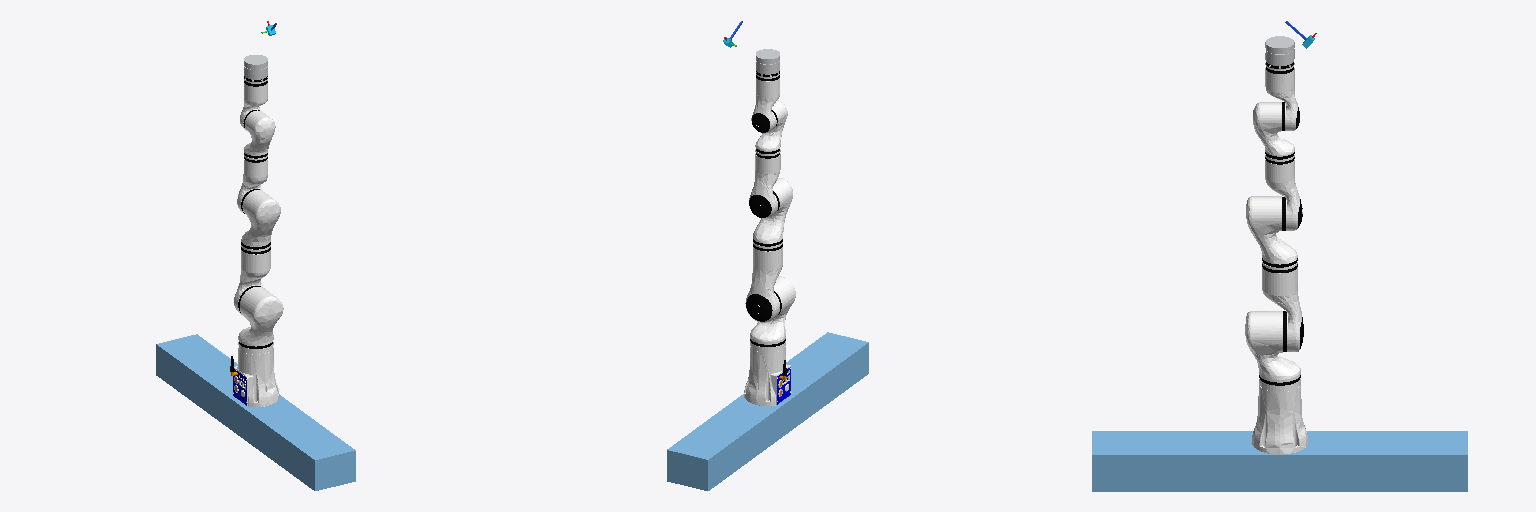
robot.urdf — RM75-6F-8dof-genesis:
<?xml version="1.0" encoding="utf-8"?>
<!-- Genesis viewer URDF: 74 cm rail visual + RM75 arm Collada meshes.
     Joint origins MUST match RM75-6F-8dof.urdf (verified FK @ joint_admittance).
     No extra visual offsets on arm links — meshes only at origin 0 0 0. -->
<robot name="RM75-6F-8dof-genesis">
  <link name="rail_base">
    <inertial>
      <origin xyz="0 0 0" rpy="0 0 0" />
      <mass value="5.0" />
      <inertia ixx="0.05" ixy="0" ixz="0" iyy="0.05" iyz="0" izz="0.05" />
    </inertial>
  </link>

  <link name="rail_visual">
    <visual>
      <origin xyz="0 0 -0.04" rpy="0 0 0" />
      <geometry>
        <box size="0.11 0.74 0.08" />
      </geometry>
      <material name="rail_light_blue">
        <color rgba="0.55 0.78 0.95 1.0" />
      </material>
    </visual>
  </link>
  <joint name="rail_visual_mount" type="fixed">
    <origin xyz="0 0 0" rpy="0 0 0" />
    <parent link="rail_base" />
    <child link="rail_visual" />
  </joint>
  <link name="slider_link">
    <inertial>
      <origin xyz="0 0 0" rpy="0 0 0" />
      <mass value="2.0" />
      <inertia ixx="0.01" ixy="0" ixz="0" iyy="0.01" iyz="0" izz="0.01" />
    </inertial>
  </link>
  <joint name="rail_y" type="prismatic">
    <origin xyz="0 0 0" rpy="0 0 0" />
    <parent link="rail_base" />
    <child link="slider_link" />
    <axis xyz="0 1 0" />
    <limit lower="-0.25" upper="0.25" velocity="0.20" effort="500" />
  </joint>
  <link name="base_link">
    <inertial>
      <origin xyz="0.00049987 5.2709E-05 0.060019" rpy="0 0 0" />
      <mass value="1.862" />
      <inertia ixx="0.0017232" ixy="-3.1058E-06" ixz="-3.7924E-05"
               iyy="0.0017051" iyz="1.3691E-06" izz="0.00090158" />
    </inertial>
    <visual>
      <origin xyz="0 0 0" rpy="0 0 0" />
      <geometry>
        <mesh filename="meshes/base_link.dae" />
      </geometry>
    </visual>
  </link>
  <joint name="arm_mount" type="fixed">
    <origin xyz="0 0 0" rpy="0 0 0" />
    <parent link="slider_link" />
    <child link="base_link" />
  </joint>
  <link name="link_1">
    <inertial>
      <origin xyz="0.000241 -0.013273 -0.00995" rpy="0 0 0" />
      <mass value="1.574" />
      <inertia ixx="0.002487573" ixy="0.000009663" ixz="-0.000007909"
               iyy="0.002321038" iyz="0.000179393" izz="0.001450554" />
    </inertial>
    <visual>
      <origin xyz="0 0 0" rpy="0 0 0" />
      <geometry>
        <mesh filename="meshes/link_1.dae" />
      </geometry>
    </visual>
  </link>
  <joint name="joint_1" type="revolute">
    <origin xyz="0 0 0.2405" rpy="0 0 0" />
    <parent link="base_link" />
    <child link="link_1" />
    <axis xyz="0 0 1" />
    <limit lower="-3.106" upper="3.106" effort="60" velocity="3.14" />
  </joint>
  <link name="link_2">
    <inertial>
      <origin xyz="-0.000357 -0.106789 0.005329" rpy="0 0 0" />
      <mass value="1.217" />
      <inertia ixx="0.003494121" ixy="0.000002921" ixz="-0.000005613"
               iyy="0.000892721" iyz="-0.000583884" izz="0.003444080" />
    </inertial>
    <visual>
      <origin xyz="0 0 0" rpy="0 0 0" />
      <geometry>
        <mesh filename="meshes/link_2.dae" />
      </geometry>
    </visual>
  </link>
  <joint name="joint_2" type="revolute">
    <origin xyz="0 0 0" rpy="-1.5708 0 0" />
    <parent link="link_1" />
    <child link="link_2" />
    <axis xyz="0 0 1" />
    <limit lower="-2.2689" upper="2.2689" effort="60" velocity="3.14" />
  </joint>
  <link name="link_3">
    <inertial>
      <origin xyz="0.000003 -0.01398 -0.011324" rpy="0 0 0" />
      <mass value="1.11" />
      <inertia ixx="0.001836663" ixy="0.000002259" ixz="-0.000004216"
               iyy="0.001498875" iyz="0.000037167" izz="0.001062545" />
    </inertial>
    <visual>
      <origin xyz="0 0 0" rpy="0 0 0" />
      <geometry>
        <mesh filename="meshes/link_3.dae" />
      </geometry>
    </visual>
  </link>
  <joint name="joint_3" type="revolute">
    <origin xyz="0 -0.256 0" rpy="1.5708 0 0" />
    <parent link="link_2" />
    <child link="link_3" />
    <axis xyz="0 0 1" />
    <limit lower="-3.106" upper="3.106" effort="30" velocity="3.14" />
  </joint>
  <link name="link_4">
    <inertial>
      <origin xyz="-0.000005 -0.084658 0.004747" rpy="0 0 0" />
      <mass value="0.685" />
      <inertia ixx="0.001282444" ixy="-0.000000551" ixz="-0.000000630"
               iyy="0.000373013" iyz="-0.000232084" izz="0.001256177" />
    </inertial>
    <visual>
      <origin xyz="0 0 0" rpy="0 0 0" />
      <geometry>
        <mesh filename="meshes/link_4.dae" />
      </geometry>
    </visual>
  </link>
  <joint name="joint_4" type="revolute">
    <origin xyz="0 0 0" rpy="-1.5708 0 0" />
    <parent link="link_3" />
    <child link="link_4" />
    <axis xyz="0 0 1" />
    <limit lower="-2.356" upper="2.356" effort="30" velocity="3.14" />
  </joint>
  <link name="link_5">
    <inertial>
      <origin xyz="0.000078 -0.012937 -0.008781" rpy="0 0 0" />
      <mass value="0.619" />
      <inertia ixx="0.000627336" ixy="0.000001636" ixz="-0.000001345"
               iyy="0.000542455" iyz="0.000034970" izz="0.000370291" />
    </inertial>
    <visual>
      <origin xyz="0 0 0" rpy="0 0 0" />
      <geometry>
        <mesh filename="meshes/link_5.dae" />
      </geometry>
    </visual>
  </link>
  <joint name="joint_5" type="revolute">
    <origin xyz="0 -0.21 0" rpy="1.5708 0 0" />
    <parent link="link_4" />
    <child link="link_5" />
    <axis xyz="0 0 1" />
    <limit lower="-3.106" upper="3.106" effort="10" velocity="3.14" />
  </joint>
  <link name="link_6">
    <inertial>
      <origin xyz="-0.000014 -0.078524 0.002819" rpy="0 0 0" />
      <mass value="0.602" />
      <inertia ixx="0.000780774" ixy="-0.000000121" ixz="-0.000000469"
               iyy="0.000289973" iyz="-0.000120513" izz="0.000763955" />
    </inertial>
    <visual>
      <origin xyz="0 0 0" rpy="0 0 0" />
      <geometry>
        <mesh filename="meshes/link_6.dae" />
      </geometry>
    </visual>
  </link>
  <joint name="joint_6" type="revolute">
    <origin xyz="0 0 0" rpy="-1.5708 0 0" />
    <parent link="link_5" />
    <child link="link_6" />
    <axis xyz="0 0 1" />
    <limit lower="-2.234" upper="2.234" effort="10" velocity="3.14" />
  </joint>
  <link name="link_7">
    <inertial>
      <origin xyz="0.001094 -0.000077 -0.010119" rpy="0 0 0" />
      <mass value="0.144" />
      <inertia ixx="0.000044123" ixy="-0.000000064" ixz="0.0000003"
               iyy="0.000035078" iyz="-0.000000029" izz="0.000065445" />
    </inertial>
    <visual>
      <origin xyz="0 0 0" rpy="0 0 0" />
      <geometry>
        <mesh filename="meshes/link_7.dae" />
      </geometry>
    </visual>
  </link>
  <joint name="joint_7" type="revolute">
    <origin xyz="0 -0.1612 0" rpy="1.5708 0 0" />
    <parent link="link_6" />
    <child link="link_7" />
    <axis xyz="0 0 1" />
    <limit lower="-6.28" upper="6.28" effort="10" velocity="3.14" />
  </joint>
  <link name="link_8">
    <inertial>
      <origin xyz="0.003680 -0.012695 0.076874" rpy="0 0 0" />
      <mass value="0.4829" />
      <inertia ixx="0.0004135" ixy="-0.000003908" ixz="0.00003379"
               iyy="0.0002717" iyz="0.00001544" izz="0.0003621" />
    </inertial>
    <visual>
      <origin xyz="0 0 0" rpy="0 0 0" />
      <geometry>
        <mesh filename="meshes/linear_probe.dae" />
      </geometry>
    </visual>
  </link>
  <joint name="joint_8" type="fixed">
    <origin xyz="0 0 0" rpy="0 0 0" />
    <parent link="link_7" />
    <child link="link_8" />
  </joint>
  <link name="tcp" />
  <joint name="link_7_to_tcp" type="fixed">
    <origin xyz="0 -0.08 0.06" rpy="0 1.570796327 -1.570796327" />
    <parent link="link_7" />
    <child link="tcp" />
  </joint>
  <!-- OpenCV / Genesis / UE-calib optical: +Z out of lens, +X right, +Y down.
       Stage 5 T_link7_cam (26-view BA, 2026-08-26). -->
  <link name="wrist_camera">
    <visual>
      <origin xyz="0 0 0" rpy="0 0 0" />
      <geometry>
        <box size="0.022 0.016 0.012" />
      </geometry>
      <material name="wrist_camera_body">
        <color rgba="0.15 0.78 0.95 1" />
      </material>
    </visual>
    <visual>
      <origin xyz="0.012 0 0" rpy="0 0 0" />
      <geometry>
        <box size="0.024 0.003 0.003" />
      </geometry>
      <material name="wrist_camera_x">
        <color rgba="0.95 0.15 0.15 1" />
      </material>
    </visual>
    <visual>
      <origin xyz="0 0.012 0" rpy="0 0 0" />
      <geometry>
        <box size="0.003 0.024 0.003" />
      </geometry>
      <material name="wrist_camera_y">
        <color rgba="0.20 0.85 0.25 1" />
      </material>
    </visual>
    <visual>
      <origin xyz="0 0 0.03" rpy="0 0 0" />
      <geometry>
        <box size="0.004 0.004 0.060" />
      </geometry>
      <material name="wrist_camera_z">
        <color rgba="0.20 0.40 1.00 1" />
      </material>
    </visual>
  </link>
  <joint name="link_7_to_wrist_camera" type="fixed">
    <origin xyz="0.073036194 0.056181762 0.035658169" rpy="-0.20219080 -0.86145291 1.58824199" />
    <parent link="link_7" />
    <child link="wrist_camera" />
  </joint>
</robot>

--- Facts derived from the render (not from the file) ---
The picture shows the robot from 3 angles, left to right: view 1: azimuth 30°, elevation 25°; view 2: azimuth 150°, elevation 25°; view 3: azimuth 270°, elevation 25°; orthographic projection.
Robot: RM75-6F-8dof-genesis — 14 links, 13 joints (7 revolute, 1 prismatic, 5 fixed); root link rail_base; default pose: every joint at zero.
Visible links, largest first — view 1: rail_visual, base_link, link_1, link_3, link_5, link_2, link_4, link_6, link_7; view 2: rail_visual, base_link, link_2, link_4, link_1, link_3, link_6, link_5, link_7; view 3: rail_visual, base_link, link_1, link_3, link_2, link_5, link_4, link_6, link_7.
Boxes of the visible links, x1,y1,x2,y2 form: rail_visual: [156, 334, 355, 490]; base_link: [230, 344, 279, 406]; link_1: [237, 285, 283, 350]; link_3: [241, 189, 280, 250]; link_5: [243, 109, 275, 158]; link_2: [234, 246, 270, 312]; link_4: [237, 156, 267, 211]; link_6: [240, 79, 267, 127]; link_7: [244, 55, 267, 82]; rail_visual: [667, 332, 868, 490]; base_link: [744, 343, 790, 405]; link_2: [745, 243, 782, 322]; link_4: [749, 150, 780, 218]; link_1: [750, 276, 795, 348]; link_3: [753, 178, 792, 247]; link_6: [751, 74, 779, 132]; link_5: [755, 100, 787, 154]; link_7: [756, 49, 779, 77]; rail_visual: [1092, 431, 1467, 491]; base_link: [1252, 381, 1307, 454]; link_1: [1245, 311, 1300, 387]; link_3: [1246, 196, 1297, 268]; link_2: [1262, 263, 1303, 351]; link_5: [1253, 102, 1294, 160]; link_4: [1265, 155, 1302, 230]; link_6: [1265, 64, 1299, 130]; link_7: [1265, 36, 1294, 69].
Bounding box of the posed robot: 0.1414 × 0.74 × 1.02 m (x, y, z).
8 mesh visuals loaded from 9 distinct referenced files (8 Collada DAE); not drawn: 1 (reference not matched to a file when rendering).
